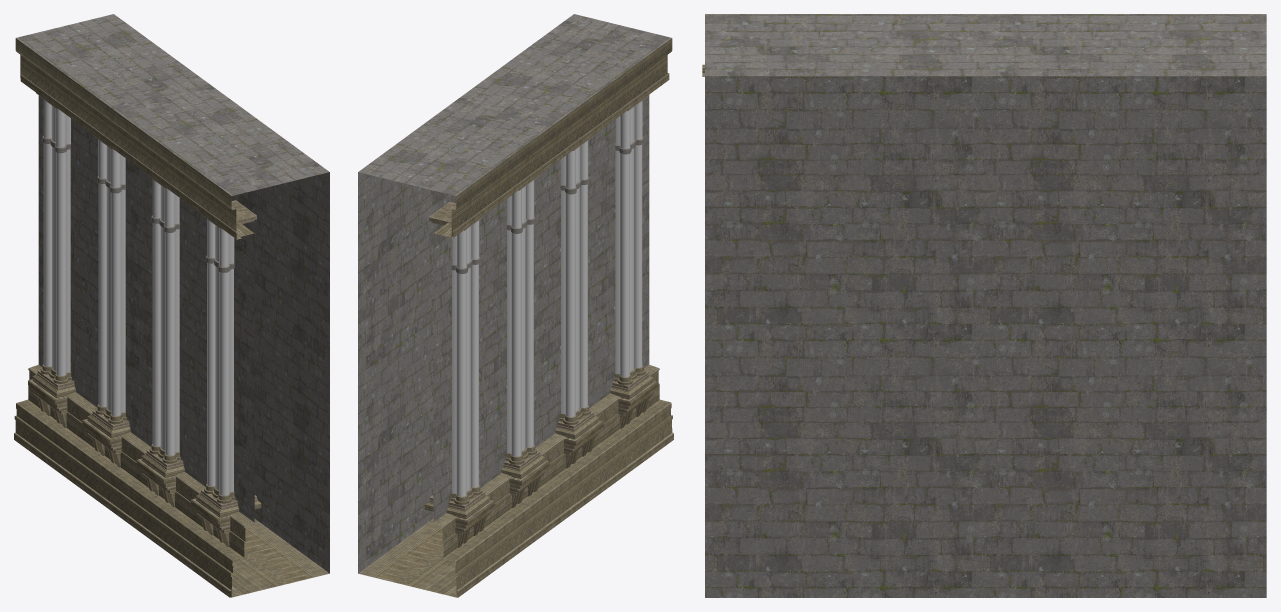
Rendered from SM_Wall_06.fbx.
3 renders of one model, left to right at view 1: azimuth 30°, elevation 25°; view 2: azimuth 150°, elevation 25°; view 3: azimuth 270°, elevation 25°, orthographic. The views are drawn at different scales.
Visible parts, largest first — view 1: SM_Wall_06_LOD0; view 2: SM_Wall_06_LOD0; view 3: SM_Wall_06_LOD0.
Part boxes in pixels (x1,y1,x2,y2): SM_Wall_06_LOD0: (14,14,329,597); SM_Wall_06_LOD0: (358,14,673,597); SM_Wall_06_LOD0: (702,14,1266,597).
Bounding box in the file's own units: 200 × 754 × 769.
